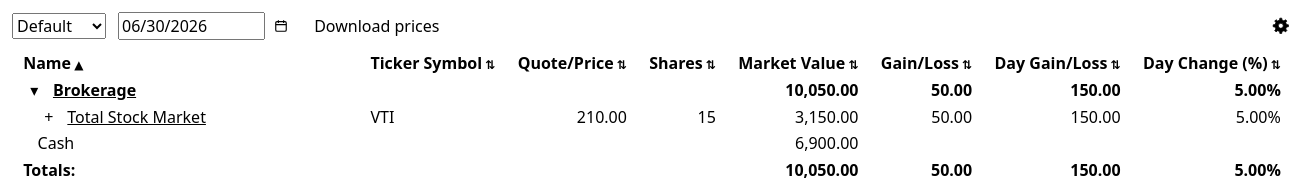
it: Investments view › shows the Default view: 8 columns, collapsed account with rolled-up values, Totals
Expected: the button "Brokerage" is shown, [53, 79, 136, 101]
Click the button named "Collapse Brokerage": click(34, 90) [23, 79, 46, 101]
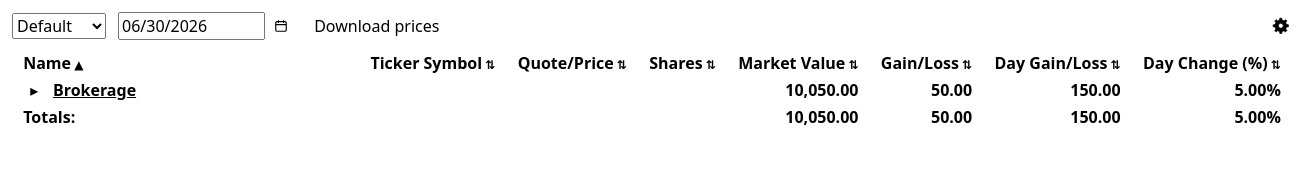
Expected: the text "Totals:" is shown, [12, 103, 359, 130]
Expected: the text "10,050.00" is shown 2 times, [727, 76, 870, 103]; [727, 103, 870, 130]
